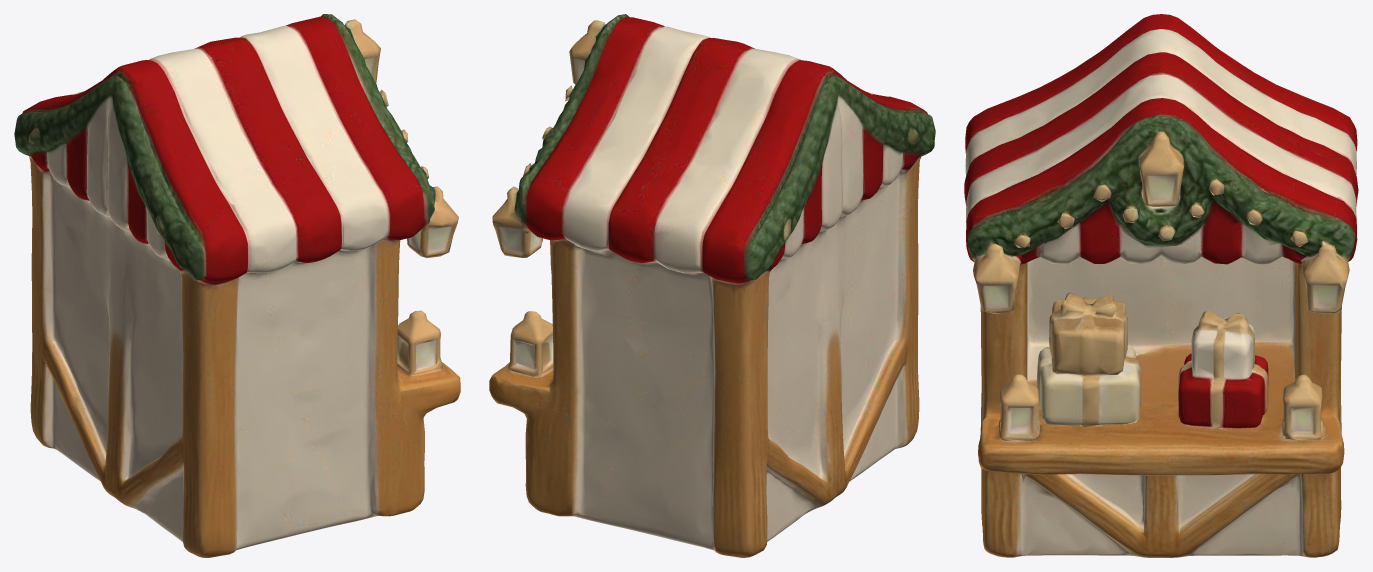
File: stall.glb
3 renders of one model, left to right at view 1: azimuth 30°, elevation 25°; view 2: azimuth 150°, elevation 25°; view 3: azimuth 270°, elevation 25°, orthographic. The views are drawn at different scales.
Bounding box in the file's own units: 1.37 × 2 × 1.62.
1 material, 1 textured.
